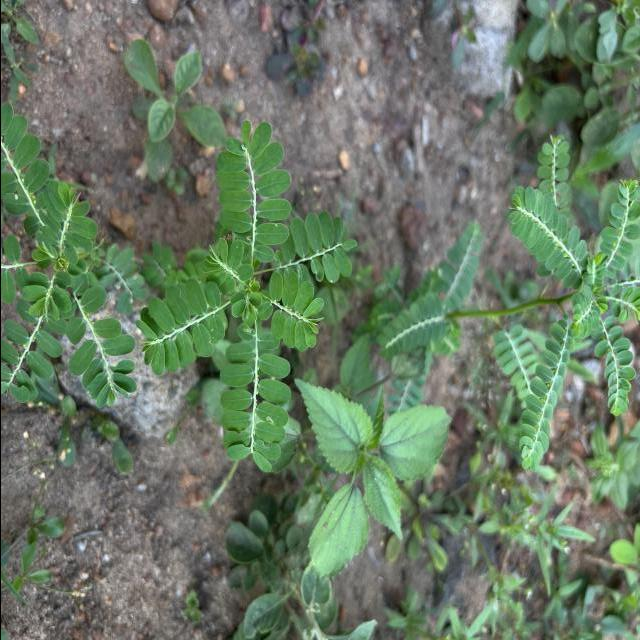Phyllanthus niruri: (214, 120, 294, 268), (218, 327, 292, 481), (62, 284, 139, 412), (132, 280, 228, 380), (503, 182, 588, 290), (517, 320, 573, 478), (284, 208, 359, 288), (260, 267, 326, 357)
